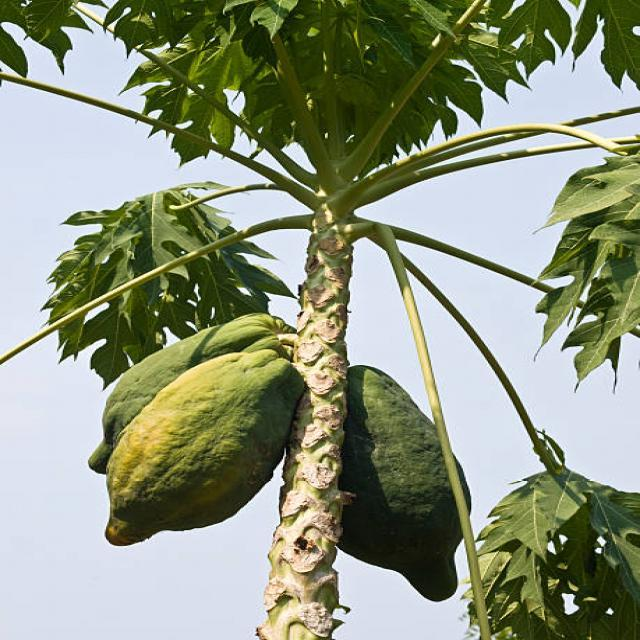Pepaya rippen: (104, 349, 301, 550)
Pepaya unrippen: (334, 363, 474, 613)
